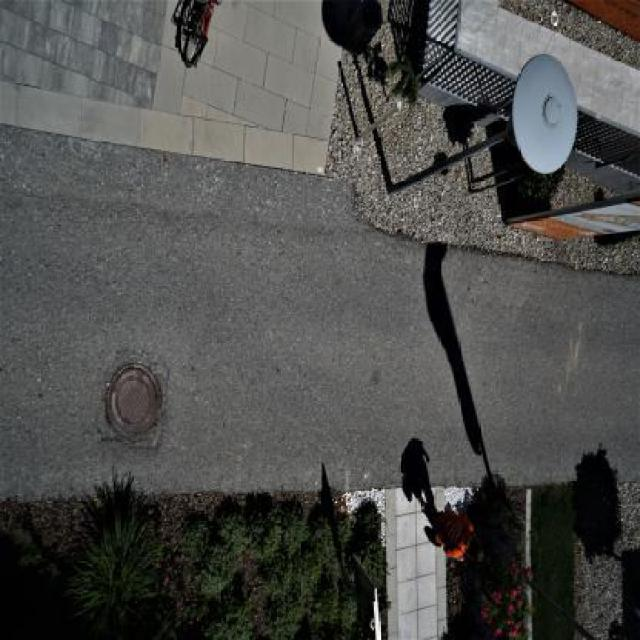Person: (415, 495, 490, 568)
